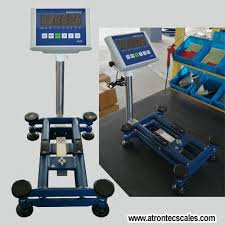Bins: (172, 37, 225, 107)
Industrial Scale: (11, 7, 115, 218), (104, 31, 219, 197)
